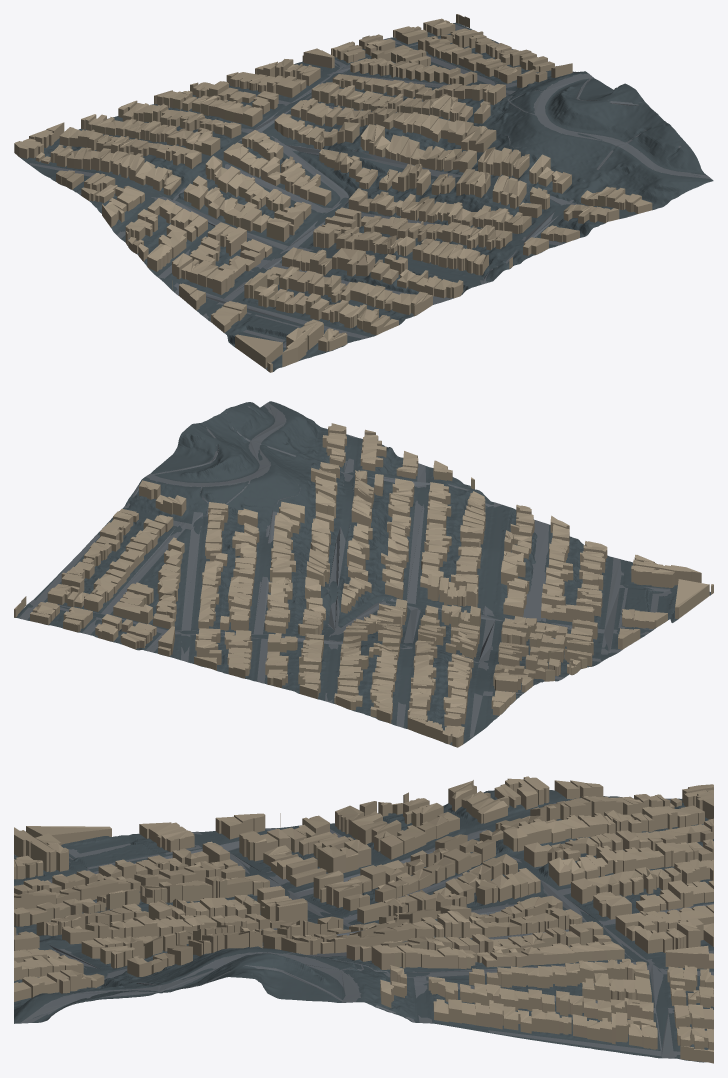
The model's file is epsg26910-1435-10878.lod0.glb.
3 views of the same model, one above another, from view 1: azimuth 30°, elevation 25°; view 2: azimuth 150°, elevation 25°; view 3: azimuth 270°, elevation 25° (orthographic). The views are drawn at different scales.
Parts seen in each view (by area): view 1: epsg26910-1435-10878-lod0; view 2: epsg26910-1435-10878-lod0; view 3: epsg26910-1435-10878-lod0.
Part boxes in pixels (<box>): epsg26910-1435-10878-lod0: <box>14,14,713,372</box>; epsg26910-1435-10878-lod0: <box>14,401,713,747</box>; epsg26910-1435-10878-lod0: <box>14,776,713,1063</box>.
Size of the model in its own units: 384 by 97.73 by 384.
